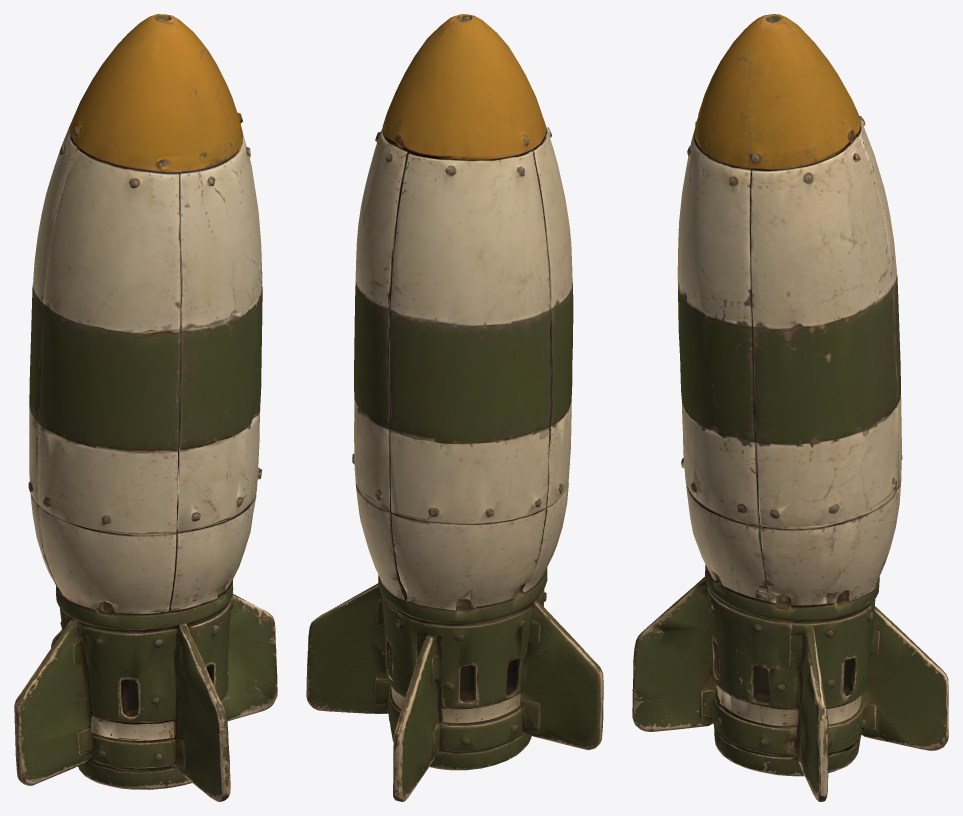
The model's file is padaria-missil.glb.
3 views of the same model, side by side, from view 1: azimuth 30°, elevation 25°; view 2: azimuth 150°, elevation 25°; view 3: azimuth 270°, elevation 25° (orthographic). The views are drawn at different scales.
Visible parts, largest first — view 1: tripo_node_7f51e2f7-c369-4128-ae9d-af9c49e1e65e; view 2: tripo_node_7f51e2f7-c369-4128-ae9d-af9c49e1e65e; view 3: tripo_node_7f51e2f7-c369-4128-ae9d-af9c49e1e65e.
Part boxes in pixels (box(x1,y1,x2,y2)): tripo_node_7f51e2f7-c369-4128-ae9d-af9c49e1e65e: box(14, 14, 277, 801); tripo_node_7f51e2f7-c369-4128-ae9d-af9c49e1e65e: box(306, 14, 603, 801); tripo_node_7f51e2f7-c369-4128-ae9d-af9c49e1e65e: box(632, 14, 948, 801).
Size of the model in its own units: 1.07 by 2.73 by 1.06.
1 material, 1 textured.
